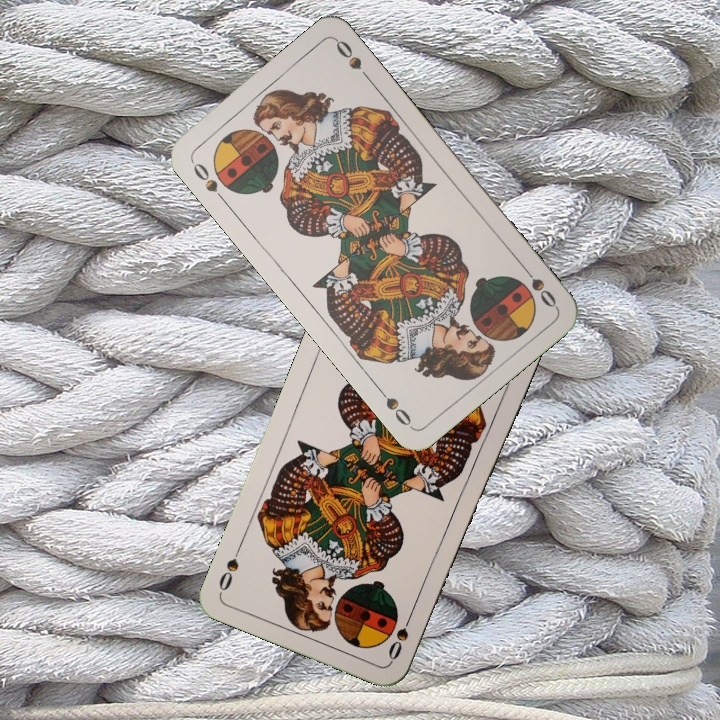SO: (517, 260, 560, 311), (186, 156, 229, 206), (384, 607, 416, 663)
